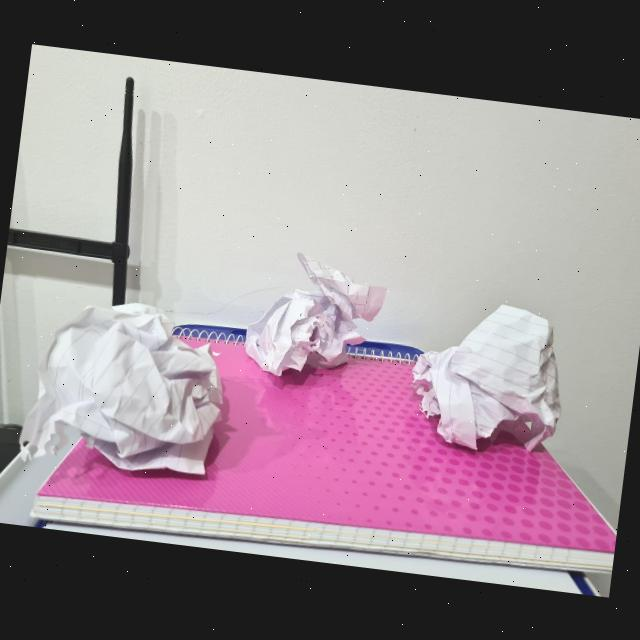trash: (32, 291, 224, 471), (413, 297, 565, 447), (236, 260, 390, 380)
